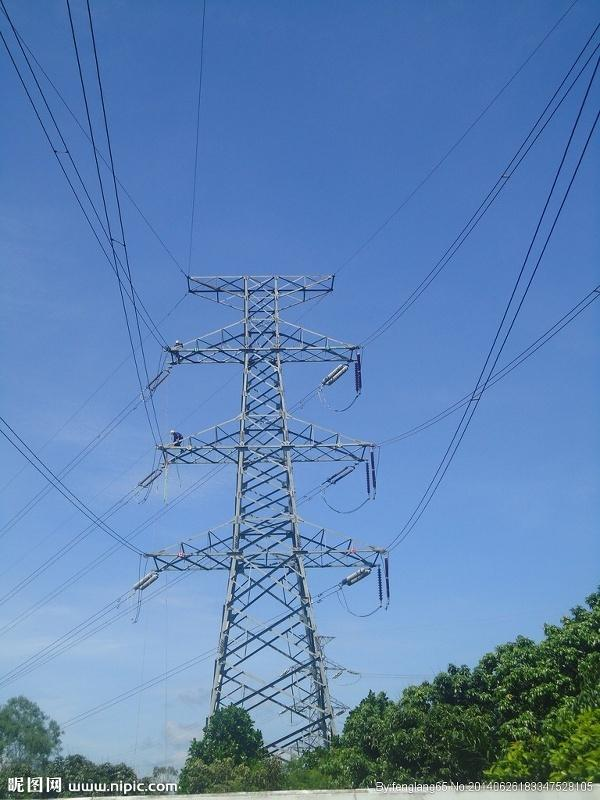power_tower: (153, 259, 395, 735)
